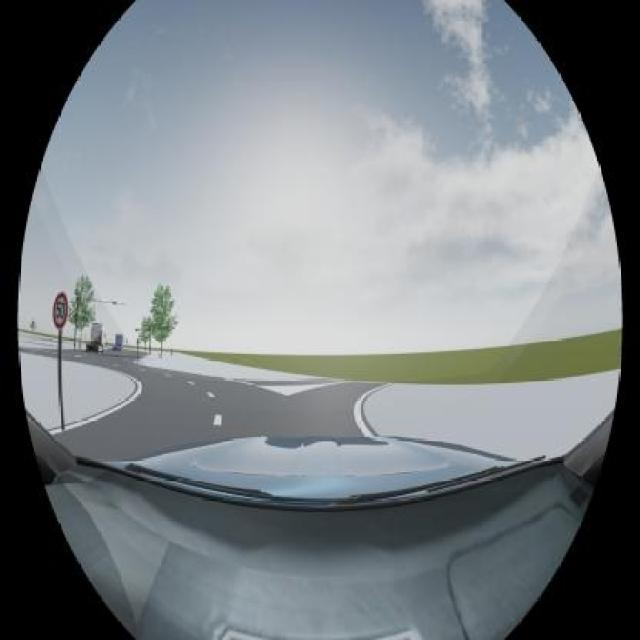forb_speed_over_50: (52, 291, 68, 329)
